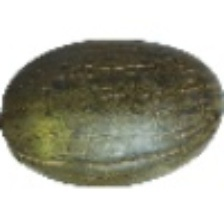honeydew: (19, 42, 160, 183)
